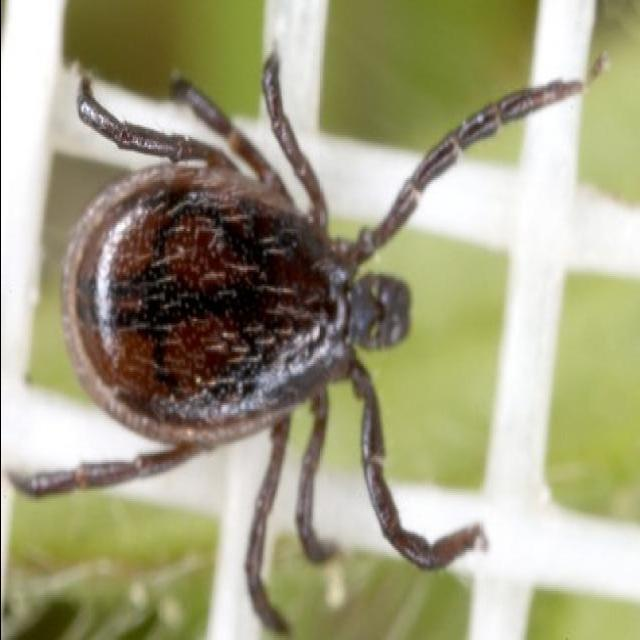Ixodes Ricinus-M: (8, 51, 585, 640)
